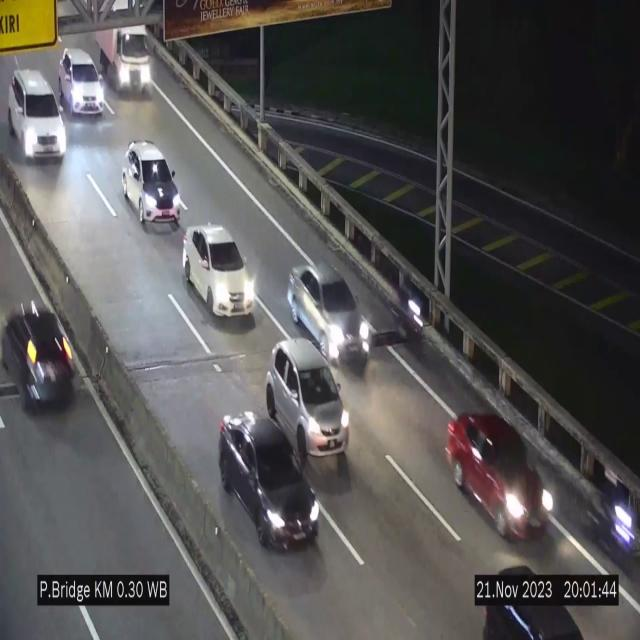Car: (444, 403, 554, 550), (219, 409, 320, 553), (264, 334, 352, 464), (1, 299, 82, 440), (287, 262, 371, 366), (480, 560, 586, 640), (183, 224, 257, 320), (8, 70, 66, 163), (122, 141, 180, 233), (59, 49, 104, 115)
Motorcycle: (588, 463, 638, 563), (396, 270, 426, 358)
Truck: (96, 8, 158, 99)
